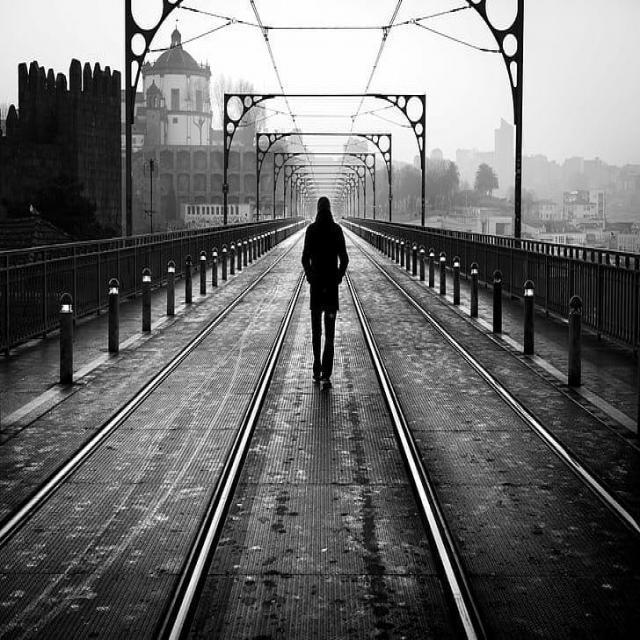danger: (288, 187, 355, 391)
rail: (0, 250, 290, 548), (366, 254, 640, 536), (168, 275, 304, 640), (348, 276, 477, 640)
